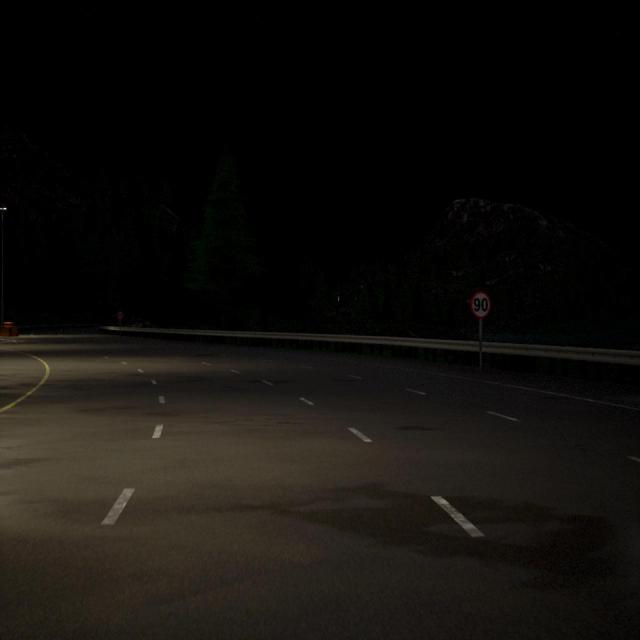Traffic_Signs: (471, 291, 491, 318), (117, 312, 123, 319)
